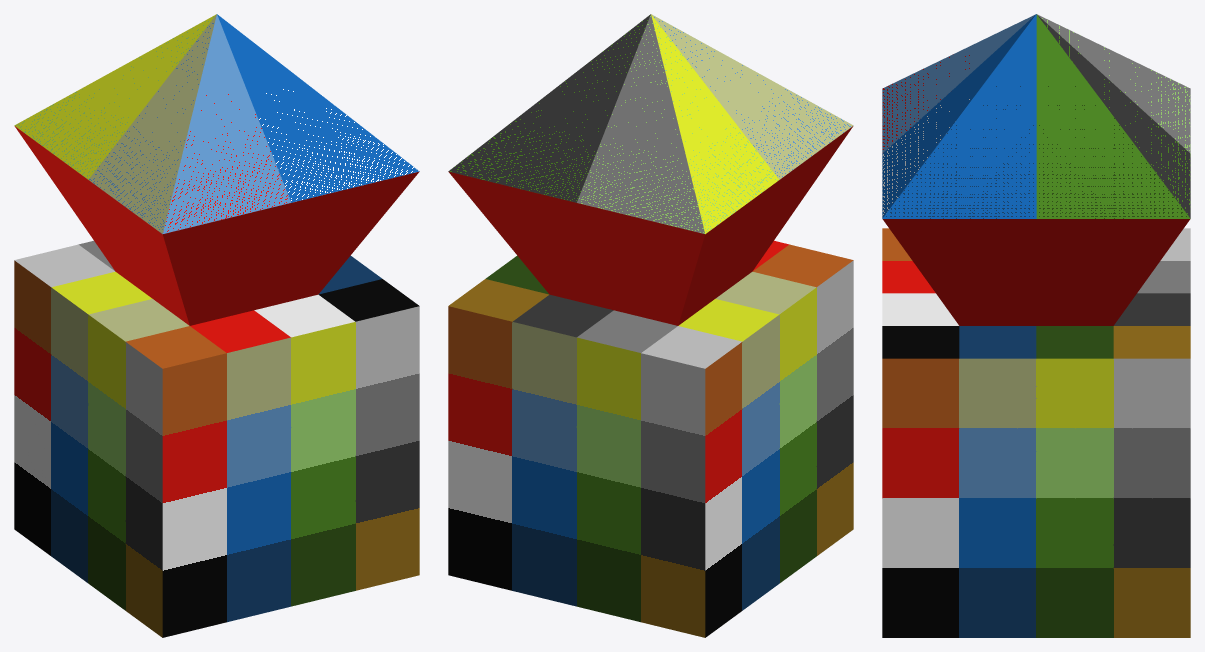
File: arrowup.fbx
The picture shows the model from 3 angles, left to right: view 1: azimuth 30°, elevation 25°; view 2: azimuth 150°, elevation 25°; view 3: azimuth 270°, elevation 25°; orthographic projection. The views are drawn at different scales.
Parts seen in each view (by area): view 1: ArrowUp; view 2: ArrowUp; view 3: ArrowUp.
Part boxes in pixels (left/top/right/bottom): ArrowUp: left=14, top=14, right=419, bottom=637; ArrowUp: left=448, top=14, right=853, bottom=637; ArrowUp: left=882, top=14, right=1190, bottom=637.
Bounding box in the file's own units: 100 × 200 × 100.
